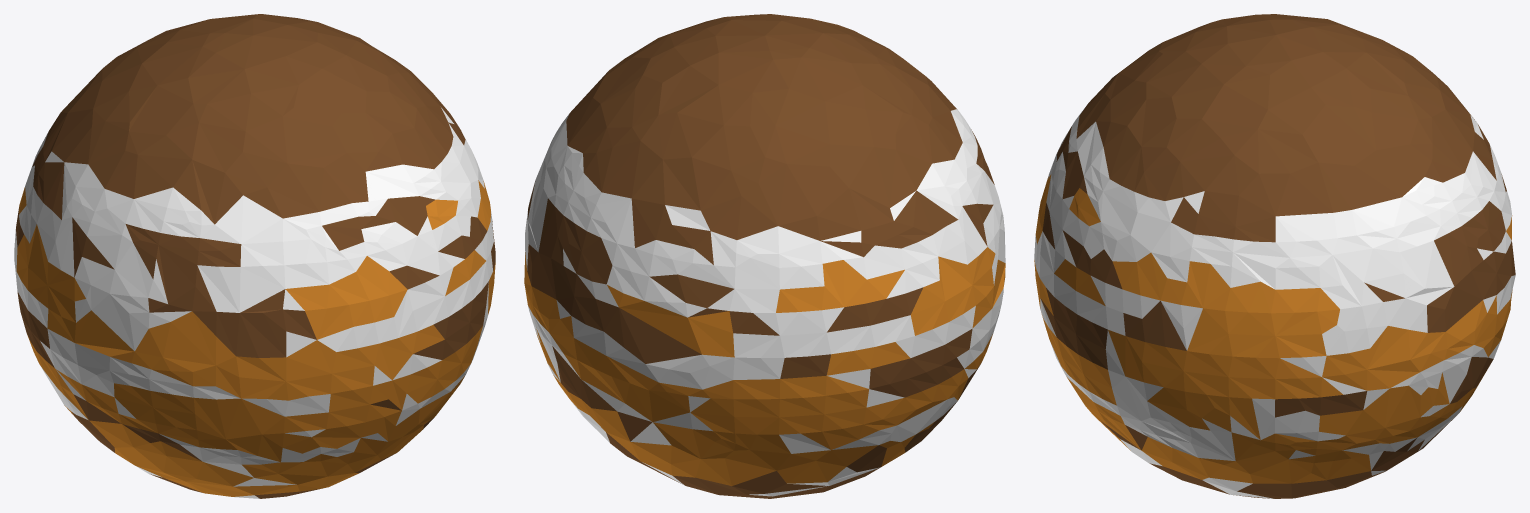
The model's file is Jupiter.glb.
The picture shows the model from 3 angles, left to right: view 1: azimuth 30°, elevation 25°; view 2: azimuth 150°, elevation 25°; view 3: azimuth 270°, elevation 25°; orthographic projection.
Visible parts, largest first — view 1: Sphere002; view 2: Sphere002; view 3: Sphere002.
Part boxes in pixels (box(x1,y1,x2,y2)): Sphere002: box(14, 14, 495, 498); Sphere002: box(524, 14, 1005, 498); Sphere002: box(1034, 14, 1515, 498).
Size of the model in its own units: 317289 by 320809 by 316846.
